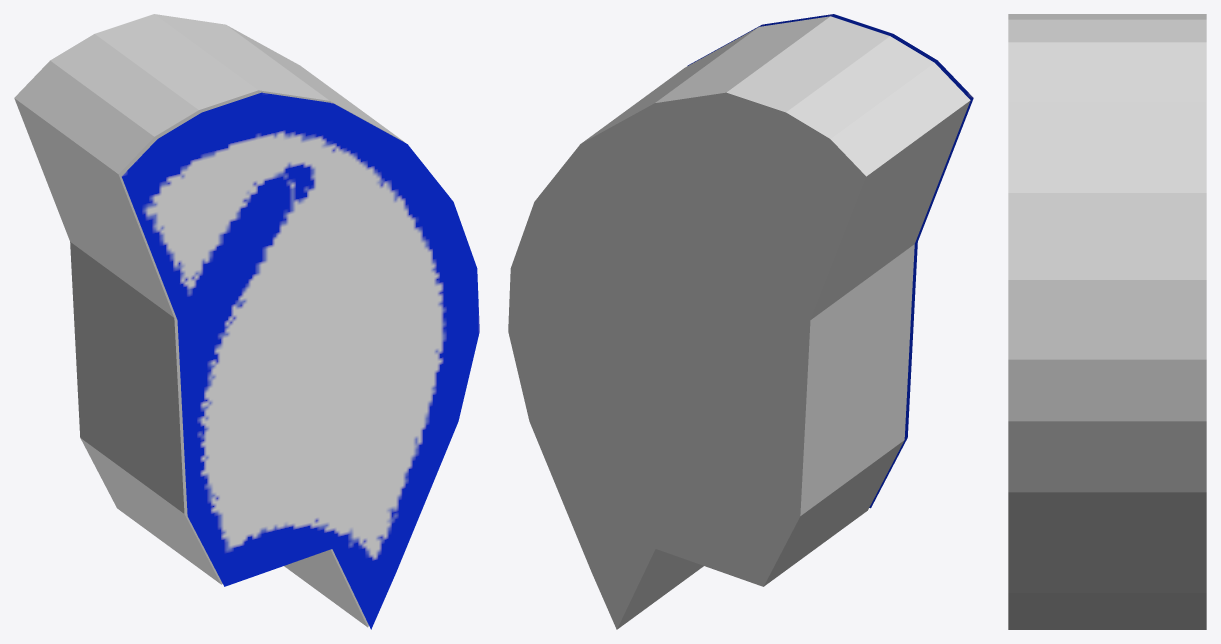
3 views of the same model, side by side, from view 1: azimuth 30°, elevation 25°; view 2: azimuth 150°, elevation 25°; view 3: azimuth 270°, elevation 25° (orthographic). The views are drawn at different scales.
Parts seen in each view (by area): view 1: In_5_1, In_5_0; view 2: In_5_0, In_5_1; view 3: In_5_0.
Part boxes in pixels (x1=…): In_5_1: x1=121, y1=92, x2=479, y2=629; In_5_0: x1=14, y1=14, x2=404, y2=627; In_5_0: x1=508, y1=16, x2=970, y2=629; In_5_1: x1=687, y1=14, x2=973, y2=508; In_5_0: x1=1008, y1=14, x2=1206, y2=629.
Size of the model in its own units: 0.9916 by 1.49 by 0.515.
Materials: 2 (1 with a texture image).
